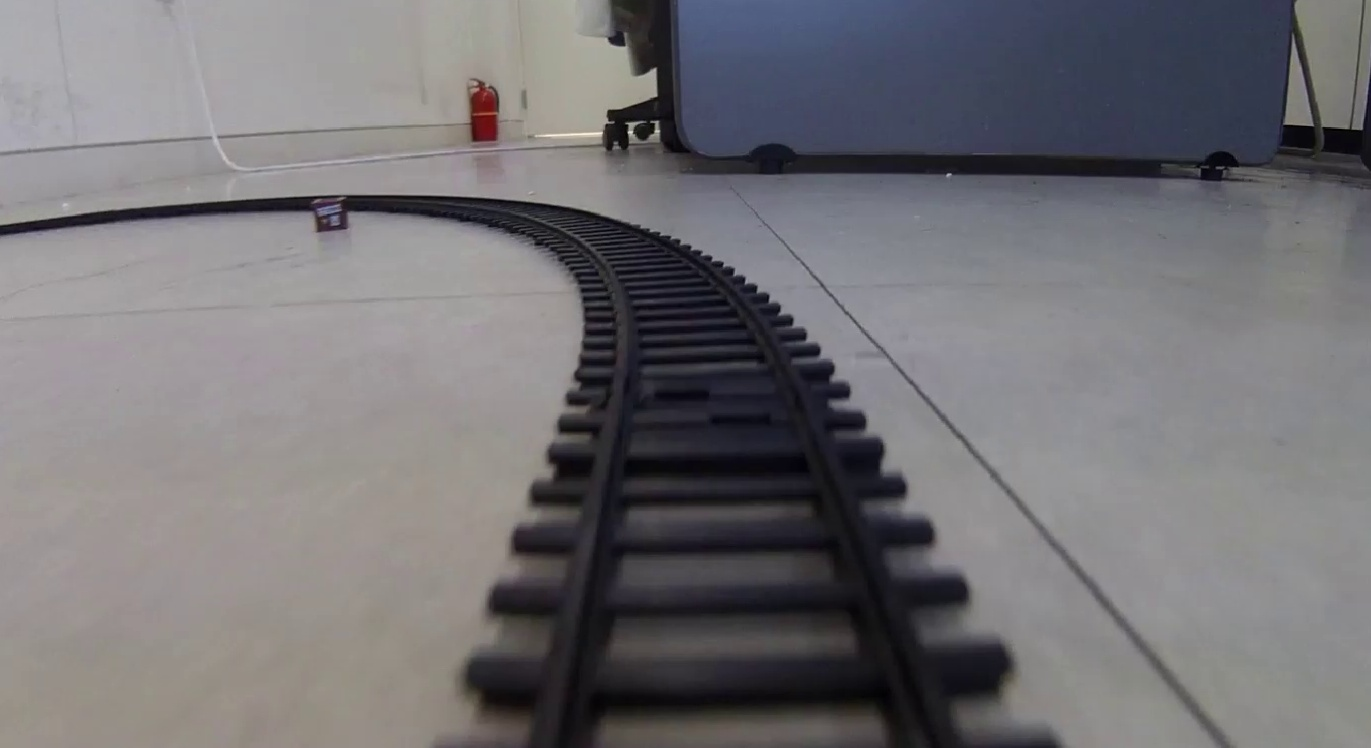box: (312, 196, 351, 230)
